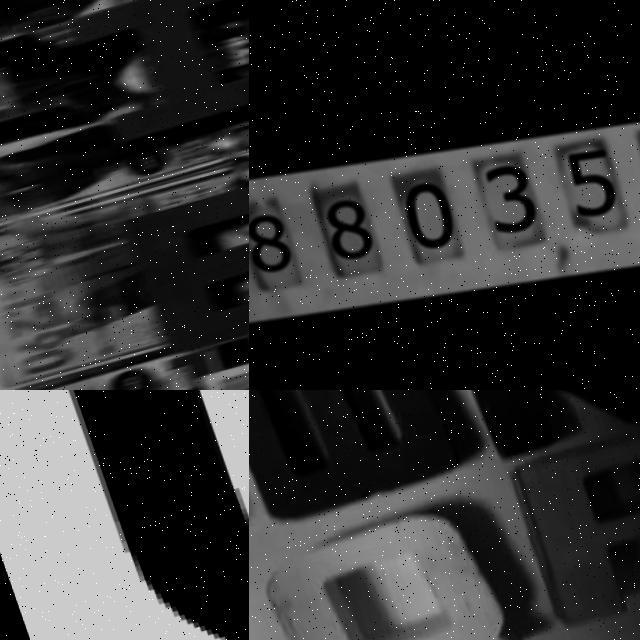0: (370, 160, 465, 270)
3: (452, 146, 546, 251), (617, 119, 640, 226)
5: (532, 131, 626, 238)
8: (293, 177, 380, 278), (249, 192, 297, 291)
E: (109, 169, 249, 358)
I: (61, 0, 249, 164)
N: (429, 390, 640, 460)
Q: (249, 495, 522, 640)
R: (501, 410, 640, 622)
U: (0, 390, 249, 640)
W: (249, 390, 460, 524)
